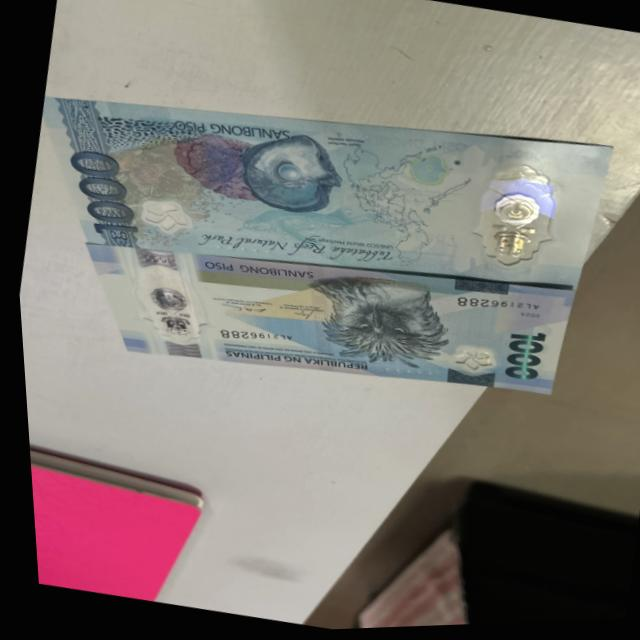clear_window: (459, 159, 567, 278), (105, 248, 214, 354)
eagle: (301, 274, 455, 374)
sampaguita: (135, 194, 193, 236), (443, 342, 494, 380)
serial_number: (445, 289, 552, 328), (200, 315, 295, 353)
value: (51, 141, 149, 245), (489, 328, 544, 391)
